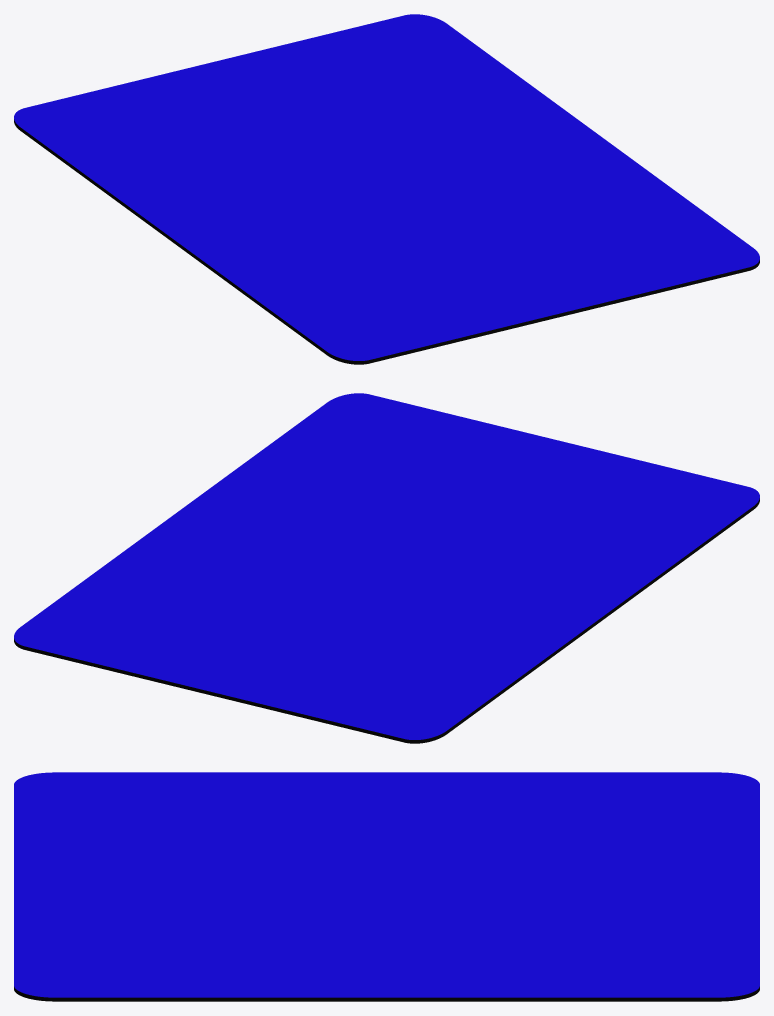
The model's file is DontUseThis.fbx.
3 renders of one model, top to bottom at view 1: azimuth 30°, elevation 25°; view 2: azimuth 150°, elevation 25°; view 3: azimuth 270°, elevation 25°, orthographic. The views are drawn at different scales.
Parts seen in each view (by area): view 1: Cube; view 2: Cube; view 3: Cube.
Boxes of the visible parts, <box> form: Cube: <box>14,14,759,364</box>; Cube: <box>14,393,759,743</box>; Cube: <box>14,772,759,1001</box>.
Bounding box in the file's own units: 500 × 4 × 700.
